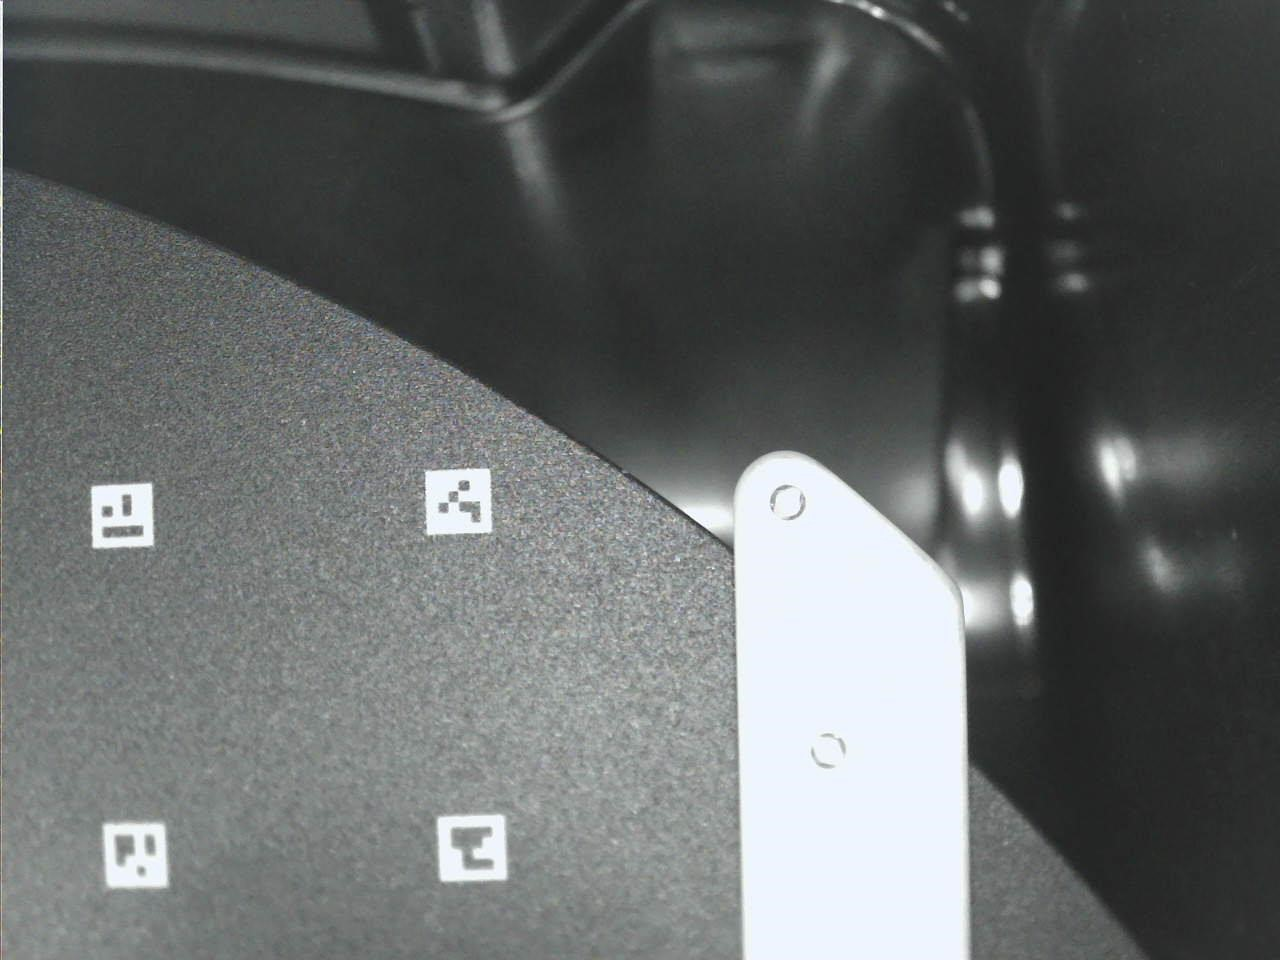tip: (712, 418, 994, 960)
